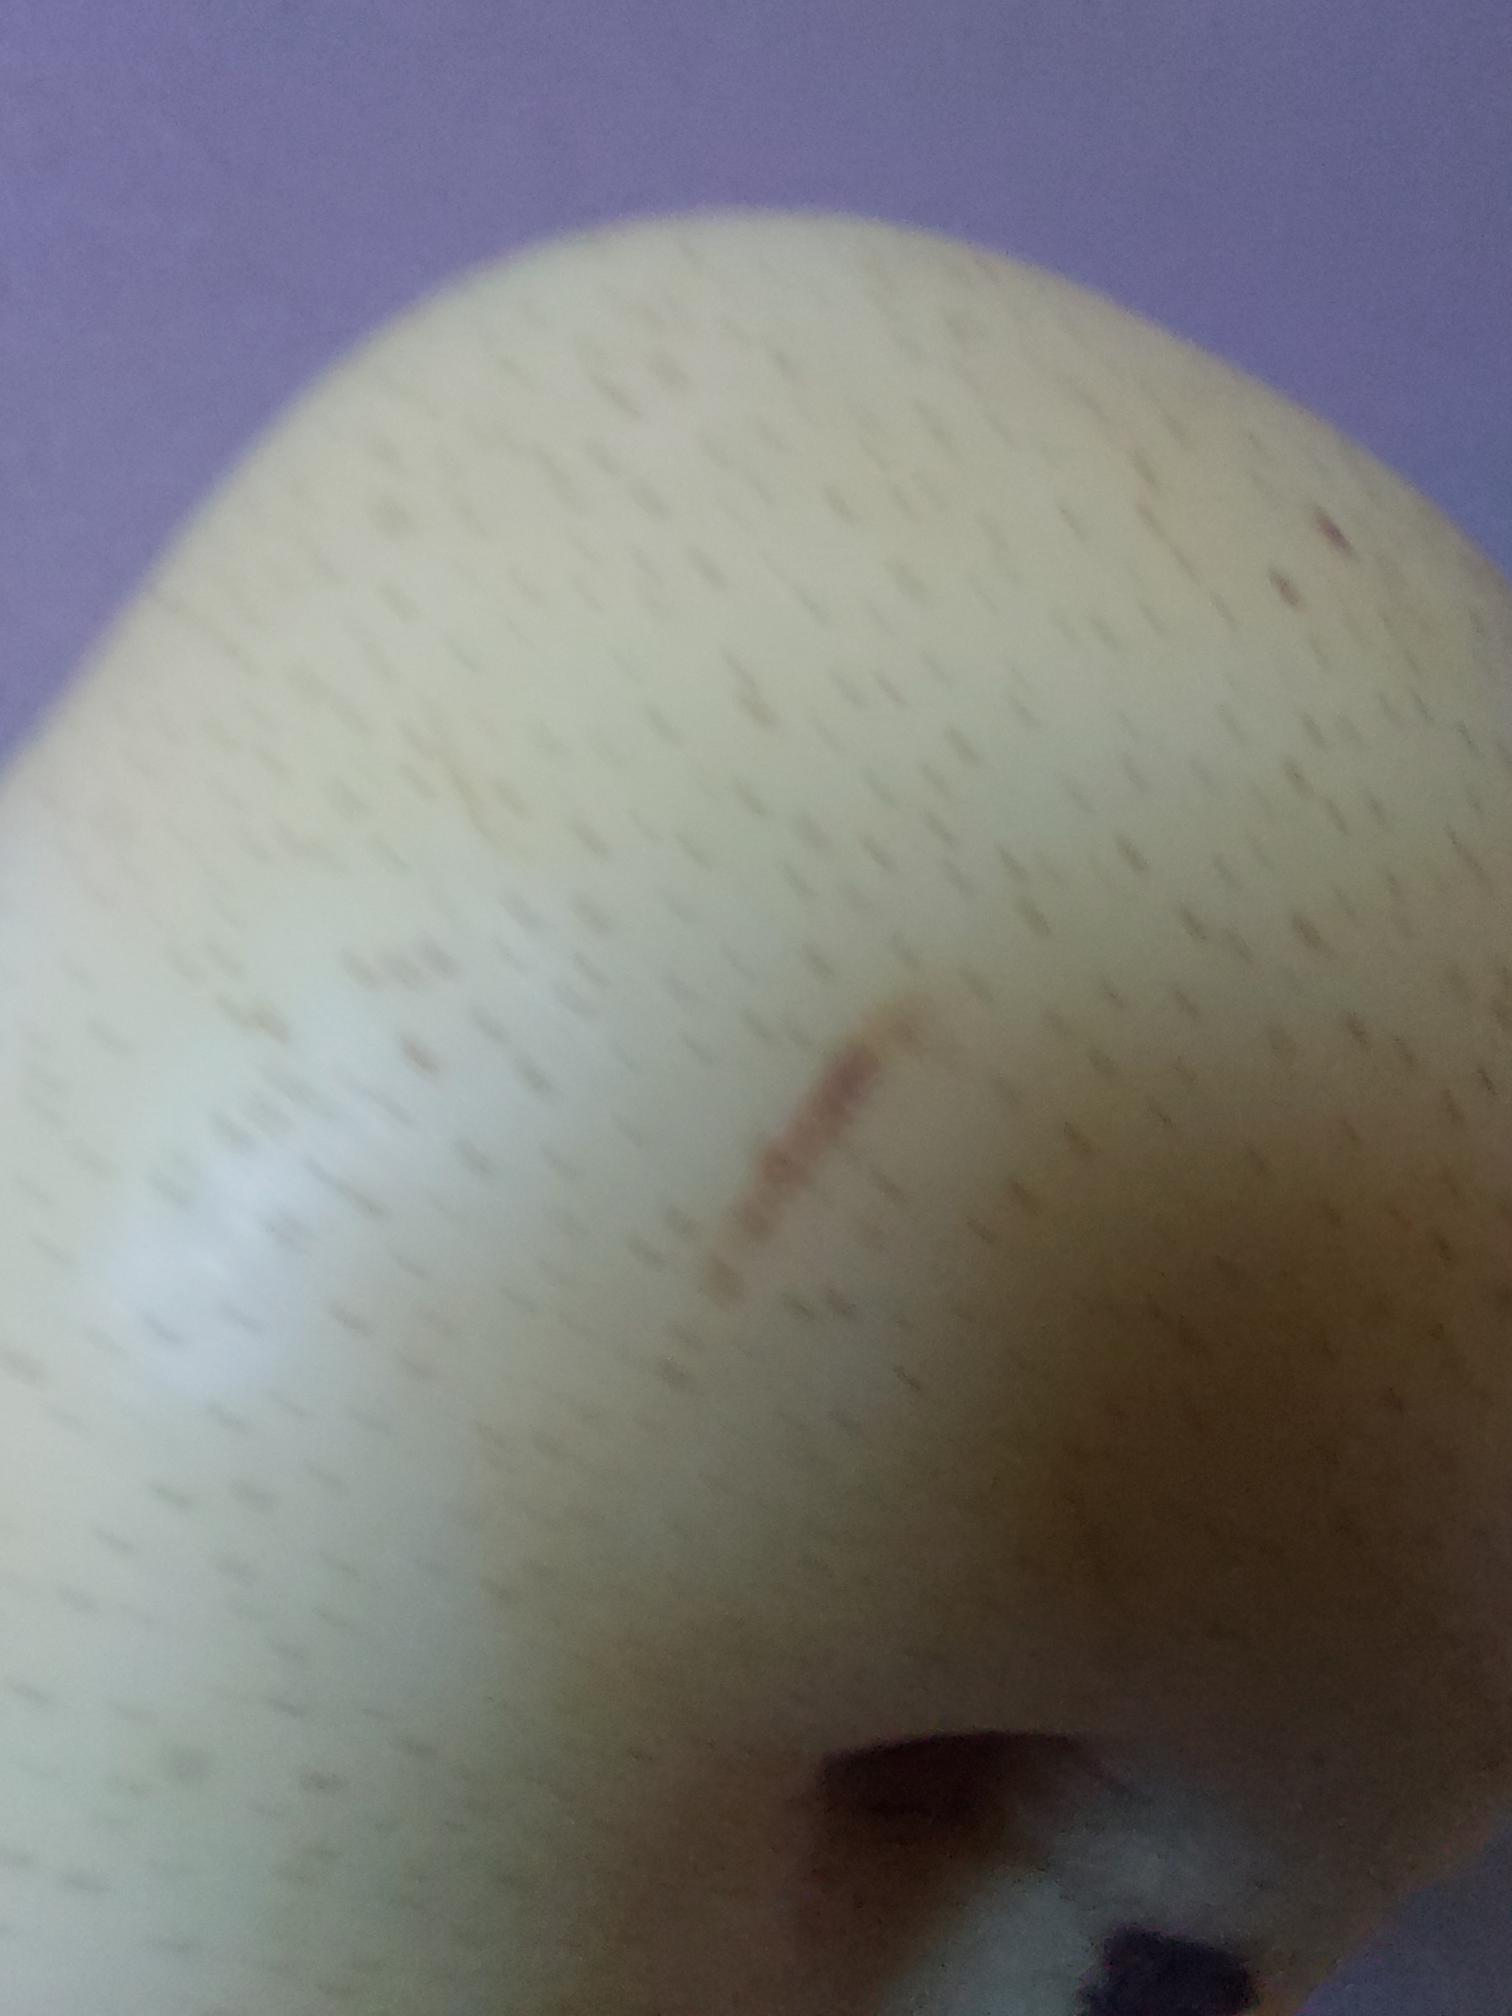Good Pear: (0, 54, 1512, 2016)
